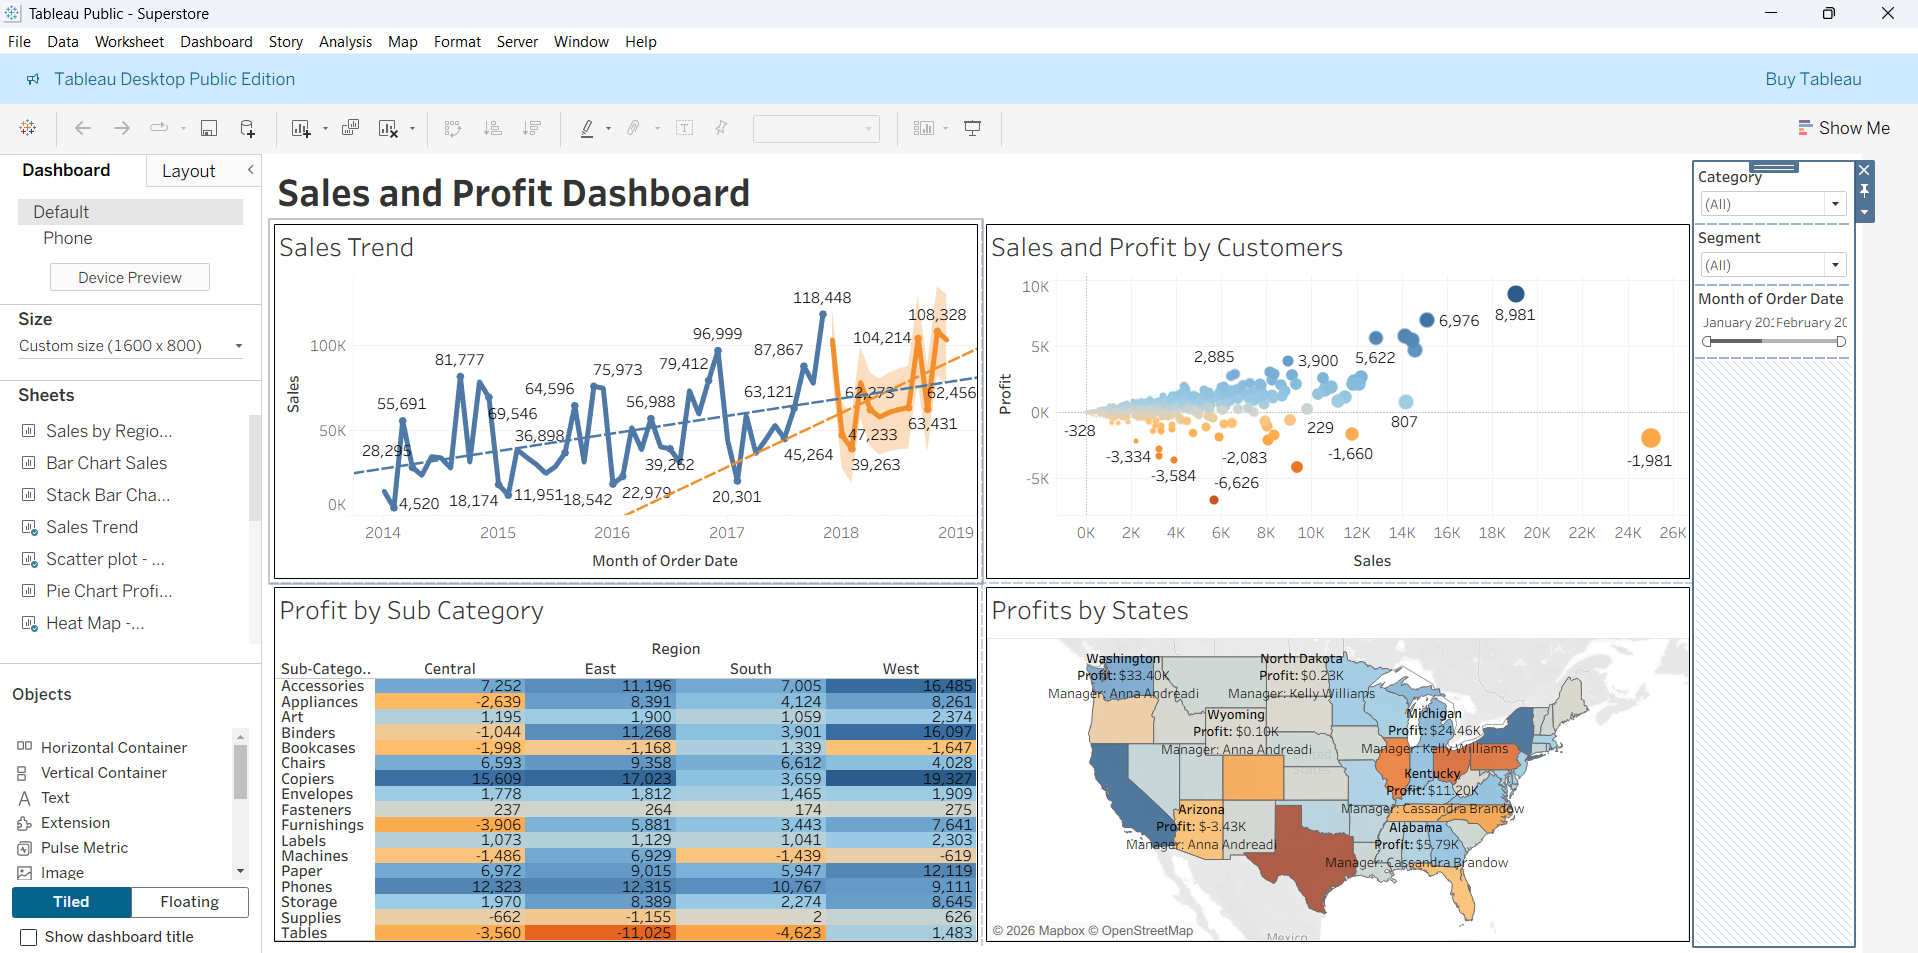

Layout of this report page (visuals, bound fields, positions):
{"tool":"tableau","page":{"name":"Sales and Profit Dashboard","canvas":[1600,800],"ordinal":0},"visuals":[{"type":"title","box":[8,8,1424,58]},{"type":"filter","title":"Sales Trend","param":"[federated.05logu20pa47ku1ciafcr0lw2nv5].[none:Category:nk]","box":[1432,8,160,61]},{"type":"worksheet","title":"Sales Trend","mark":"Automatic","rows":["Sales"],"cols":["Order Date"],"box":[8,66,712,363]},{"type":"worksheet","title":"Scatter plot - Sales by profit for all customers","mark":"Automatic","rows":["Profit"],"cols":["Sales"],"box":[720,66,712,363]},{"type":"filter","title":"Sales Trend","param":"[federated.05logu20pa47ku1ciafcr0lw2nv5].[none:Segment:nk]","box":[1432,69,160,61]},{"type":"filter","title":"Sales Trend","param":"[federated.05logu20pa47ku1ciafcr0lw2nv5].[tmn:Order Date:qk]","box":[1432,130,160,73]},{"type":"worksheet","title":"Heat Map -Profits by Sub Category","mark":"Square","rows":["Sub-Category"],"cols":["Region"],"box":[8,429,712,363]},{"type":"worksheet","title":"Map-Profit by States","mark":"Multipolygon","box":[720,429,712,363]}]}

Visuals, with their boxes on the page's 1600x800 design canvas (x1, y1, x2, y2). These are canvas units, not pixel positions in the 1918x953 screenshot, which may show the page scaled, cropped or inside an application window:
title: box=[8, 8, 1432, 66]
"Sales Trend" filter: box=[1432, 8, 1592, 69]
"Sales Trend" worksheet: box=[8, 66, 720, 429]
"Scatter plot - Sales by profit for all customers" worksheet: box=[720, 66, 1432, 429]
"Sales Trend" filter: box=[1432, 69, 1592, 130]
"Sales Trend" filter: box=[1432, 130, 1592, 203]
"Heat Map -Profits by Sub Category" worksheet (Square marks): box=[8, 429, 720, 792]
"Map-Profit by States" worksheet (Multipolygon marks): box=[720, 429, 1432, 792]
